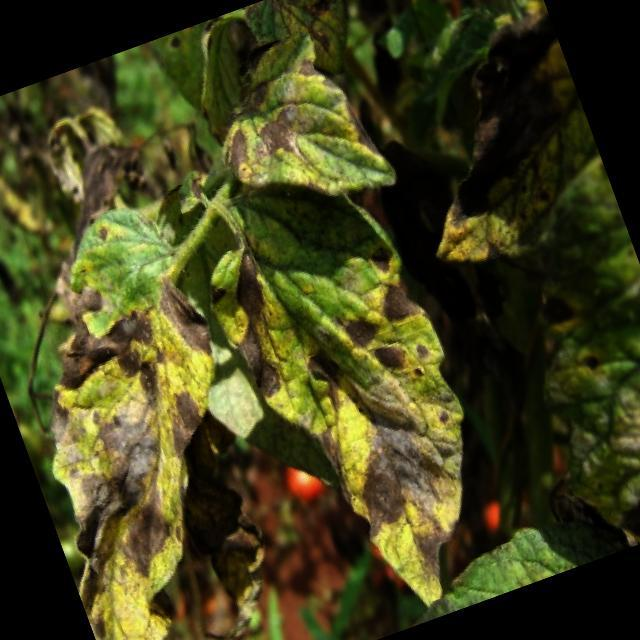Tomato Early blight leaf: (184, 148, 524, 638), (0, 194, 337, 640), (444, 151, 640, 567), (366, 8, 624, 284), (186, 14, 392, 226)
